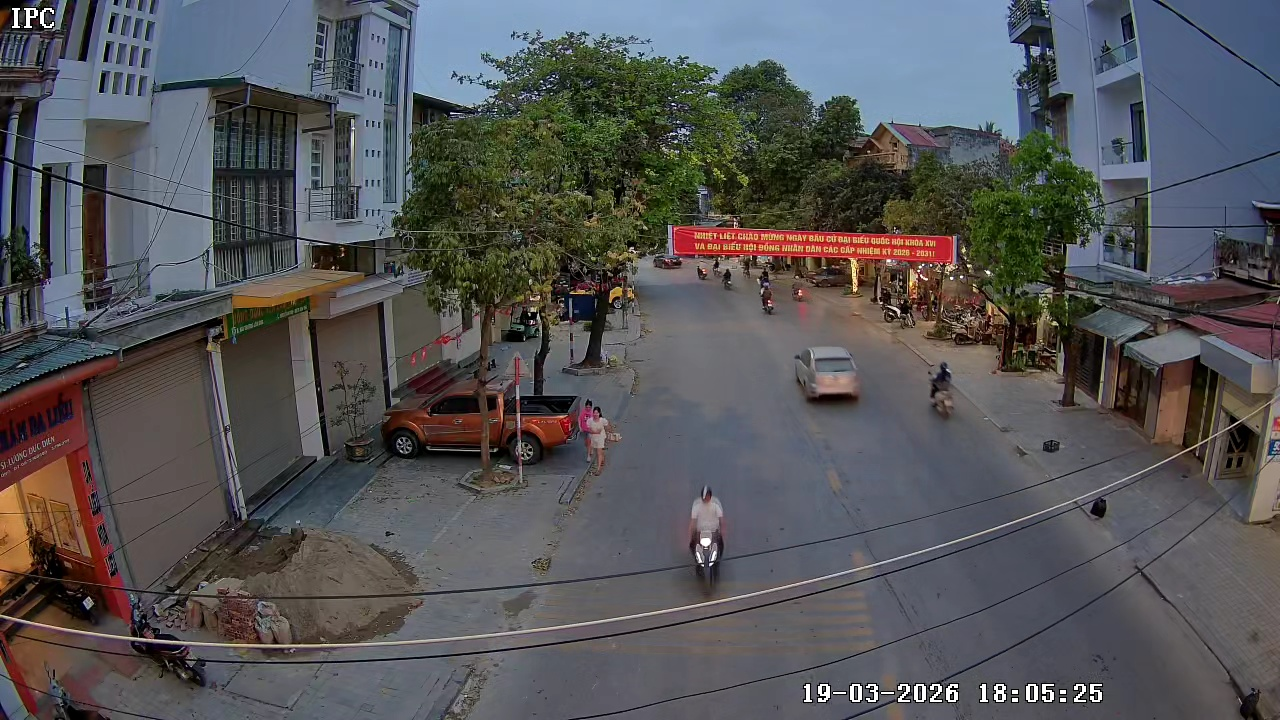car: (793, 343, 862, 404)
motorbike: (686, 484, 729, 593), (927, 361, 959, 419), (761, 285, 777, 315)
pedestrian: (580, 398, 615, 477)
truck: (379, 374, 579, 461)
